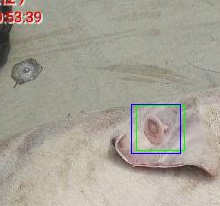text: (136, 105, 184, 150)
